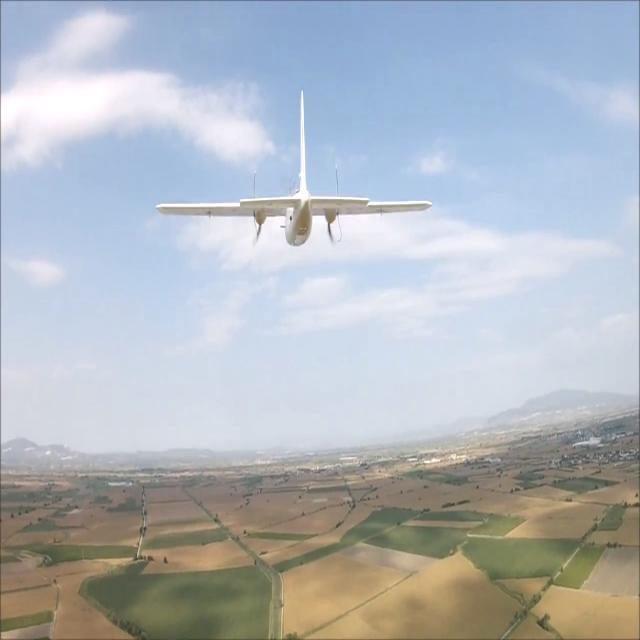iha: (148, 84, 432, 253)
